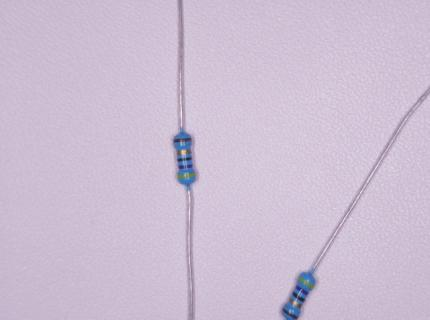Black band: (292, 291, 306, 303), (177, 157, 192, 162)
Brown band: (282, 307, 298, 319), (173, 137, 192, 143)
Gold band: (289, 297, 302, 308), (176, 149, 192, 156)
Violet band: (295, 284, 309, 296), (178, 164, 193, 169)
Yellow band: (297, 276, 314, 289), (177, 173, 196, 179)
